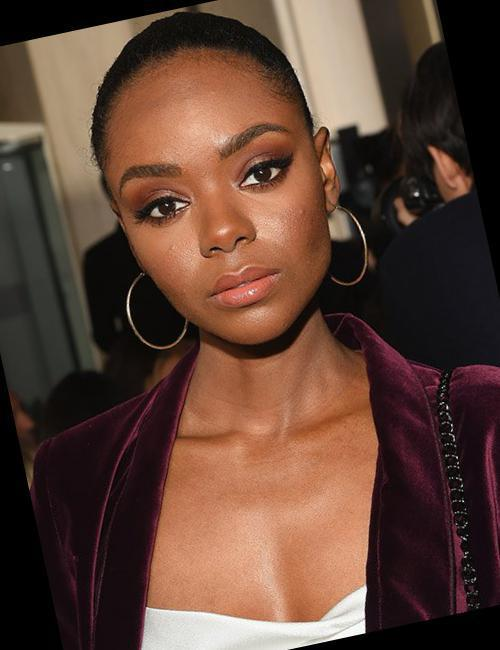Sober: (102, 69, 329, 330)
